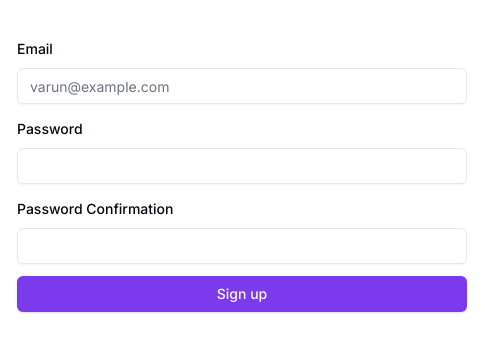
Test: Signup › validate email and password confirmation when passwords don't match
The width and height of the screenshot is (485, 357).
Type "test@example" into the field labelled "Email".
click(242, 86); type("test@example")  # box [17,68,467,104]
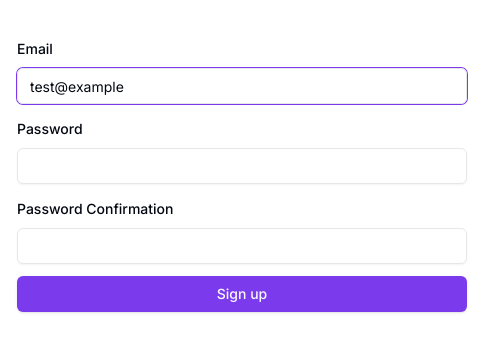
Type "password" into the password field labelled "Password".
click(242, 166); type("password")  # box [17,148,467,184]
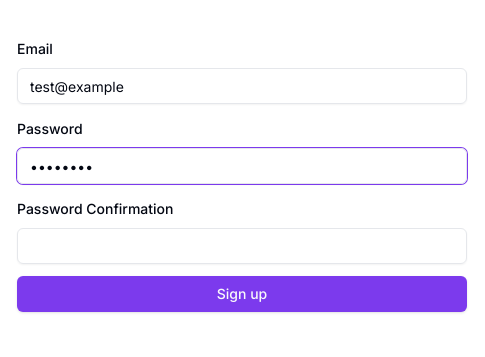
Type "password1" into the password field labelled "Password Confirmation".
click(242, 246); type("password1")  # box [17,228,467,264]
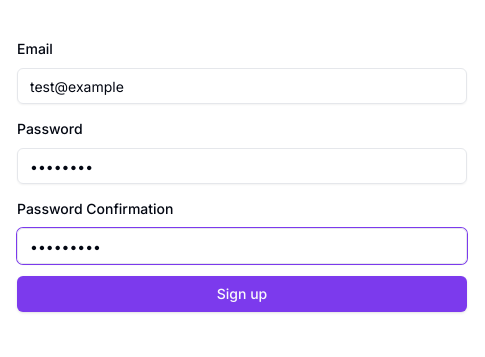
Click the button "Sign up".
click(242, 294)  # box [17,276,467,312]
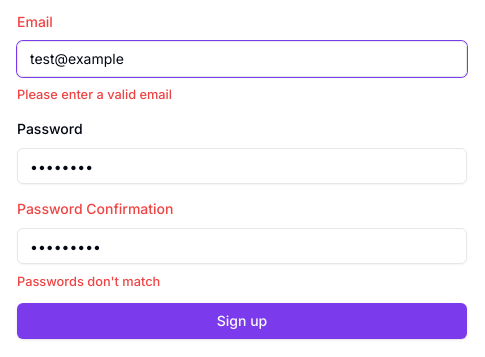
Check: the text "Please enter a valid email" is shown, box [17,87,172,102]
Check: the text "Passwords don't match" is shown, box [17,274,160,289]
